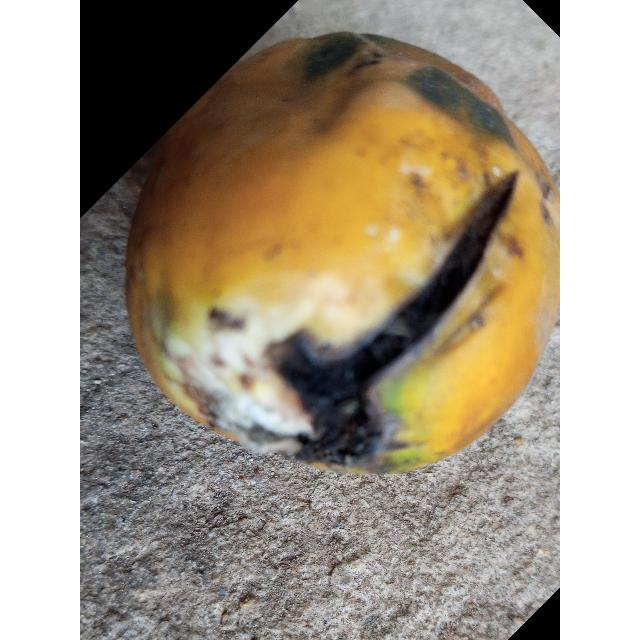damaged: (124, 30, 560, 475)
